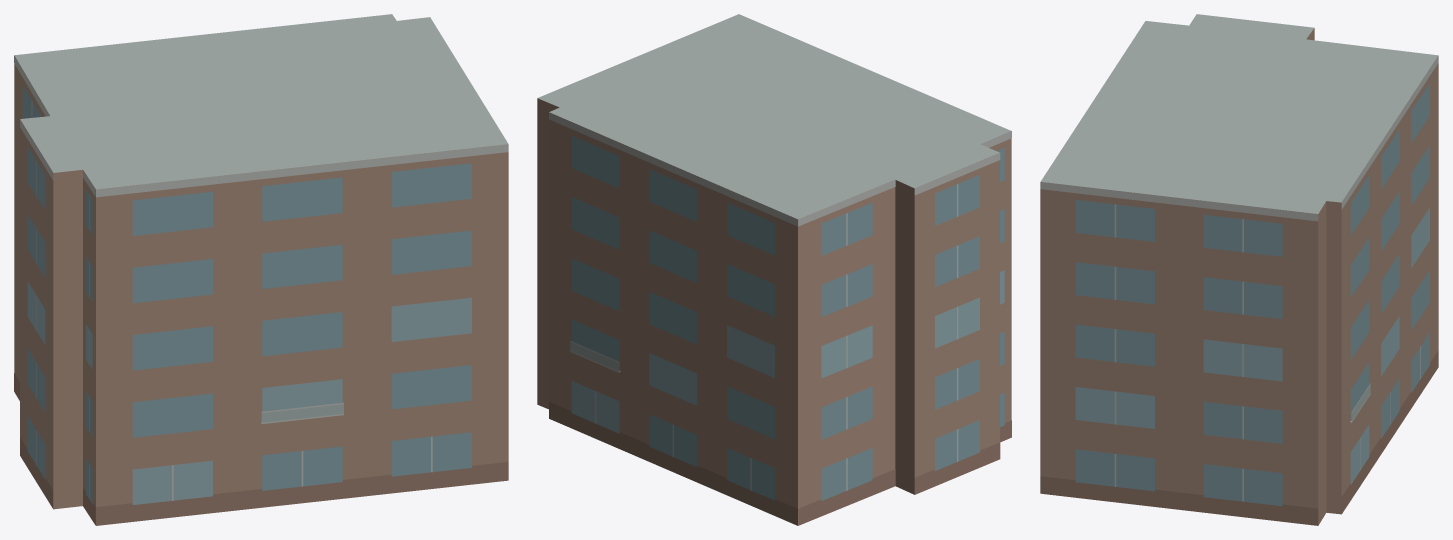
Rendered from survey-upis-32875694.glb.
3 views of the same model, side by side, from view 1: azimuth 30°, elevation 25°; view 2: azimuth 150°, elevation 25°; view 3: azimuth 270°, elevation 25° (orthographic). The views are drawn at different scales.
Visible parts, largest first — view 1: survey-upis-32875694.tmp; view 2: survey-upis-32875694.tmp; view 3: survey-upis-32875694.tmp.
Boxes of the visible parts, x1,y1,x2,y2 form: survey-upis-32875694.tmp: (14, 14, 508, 525); survey-upis-32875694.tmp: (537, 14, 1011, 525); survey-upis-32875694.tmp: (1040, 14, 1438, 525).
Bounding box in the file's own units: 14.32 × 10.4 × 12.05.
